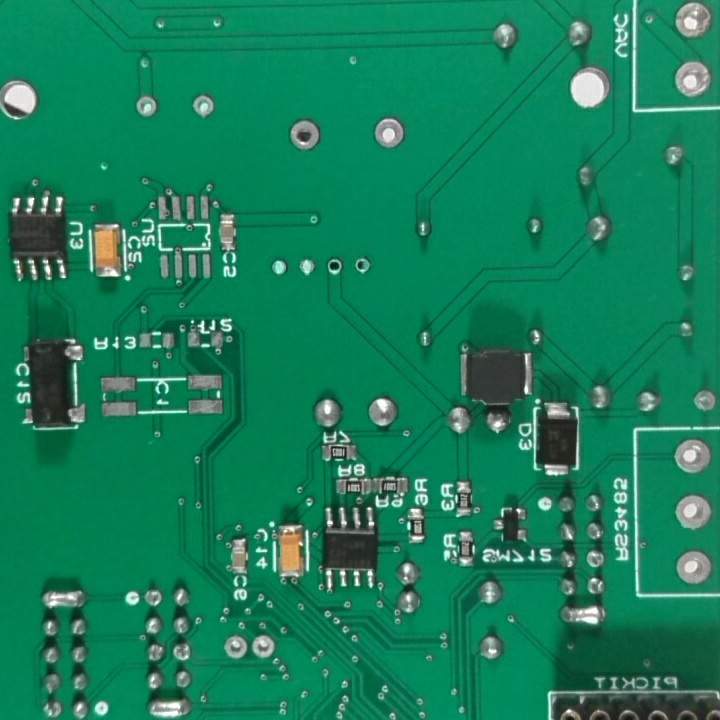F: (670, 55, 715, 101), (672, 1, 715, 43), (670, 438, 716, 477), (672, 490, 712, 532), (673, 546, 712, 589), (370, 117, 407, 154), (286, 119, 325, 152), (221, 632, 249, 663), (132, 96, 164, 121), (251, 634, 276, 665), (692, 388, 718, 415), (190, 95, 219, 119), (171, 641, 196, 666), (269, 256, 291, 282), (143, 585, 164, 612), (585, 548, 607, 573), (41, 699, 65, 719), (326, 258, 346, 278), (355, 257, 373, 278), (298, 256, 314, 278)
P: (553, 603, 608, 628), (39, 588, 93, 612), (141, 696, 194, 720)
